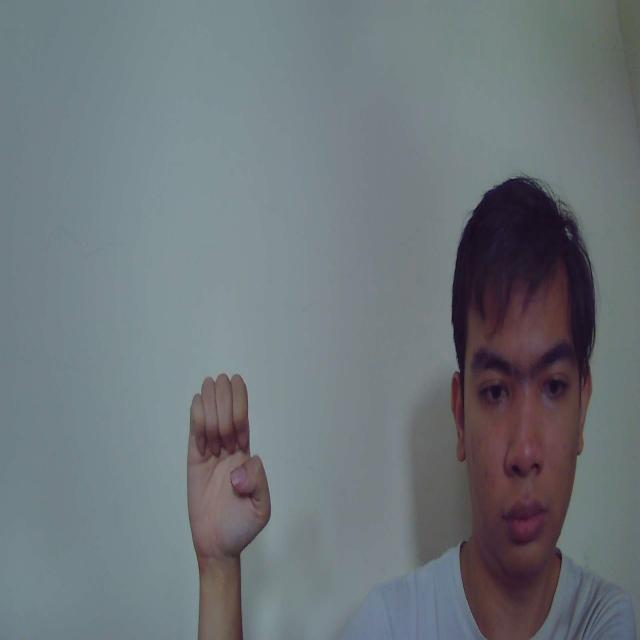E: (187, 370, 274, 557)
